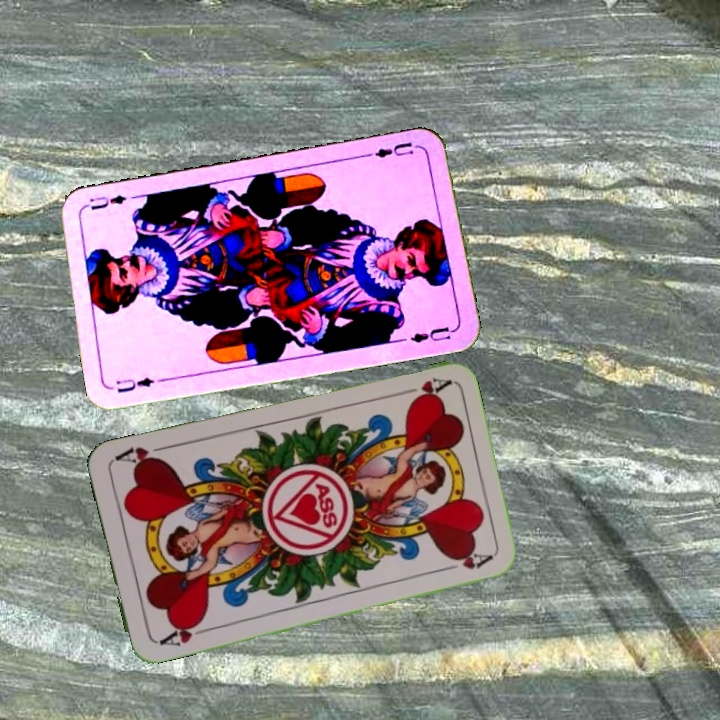EU: (112, 373, 169, 396), (371, 138, 416, 161)
HA: (153, 616, 212, 649), (393, 373, 451, 404)
